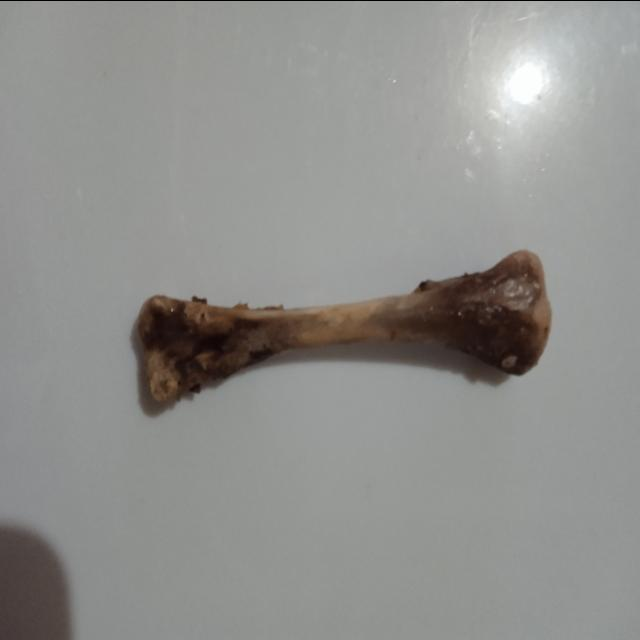bone: (134, 241, 556, 417)
